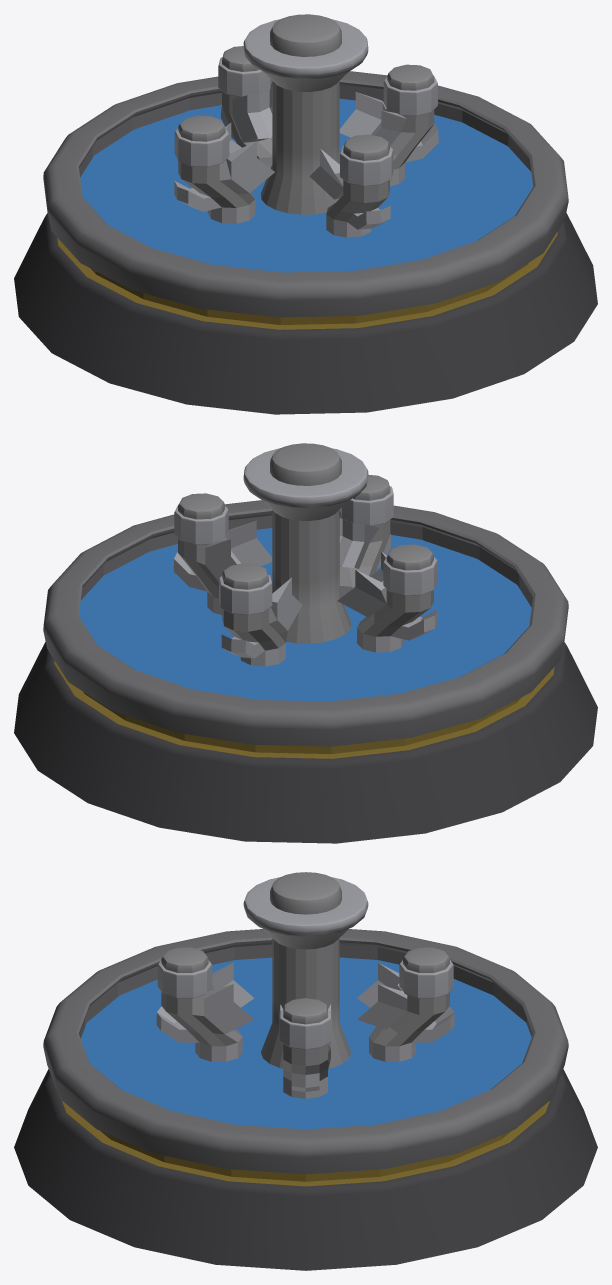
The model's file is Fuente.fbx.
3 renders of one model, top to bottom at view 1: azimuth 30°, elevation 25°; view 2: azimuth 150°, elevation 25°; view 3: azimuth 270°, elevation 25°, orthographic.
Visible parts, largest first — view 1: Fuente, Agua; view 2: Fuente, Agua; view 3: Fuente, Agua.
Part boxes in pixels (left/top/right/bottom): Fuente: left=14, top=14, right=597, bottom=414; Agua: left=80, top=98, right=532, bottom=272; Fuente: left=14, top=443, right=597, bottom=843; Agua: left=79, top=528, right=531, bottom=701; Fuente: left=14, top=872, right=597, bottom=1270; Agua: left=81, top=957, right=531, bottom=1129.
Size of the model in its own units: 7.9 by 3.93 by 7.9.
